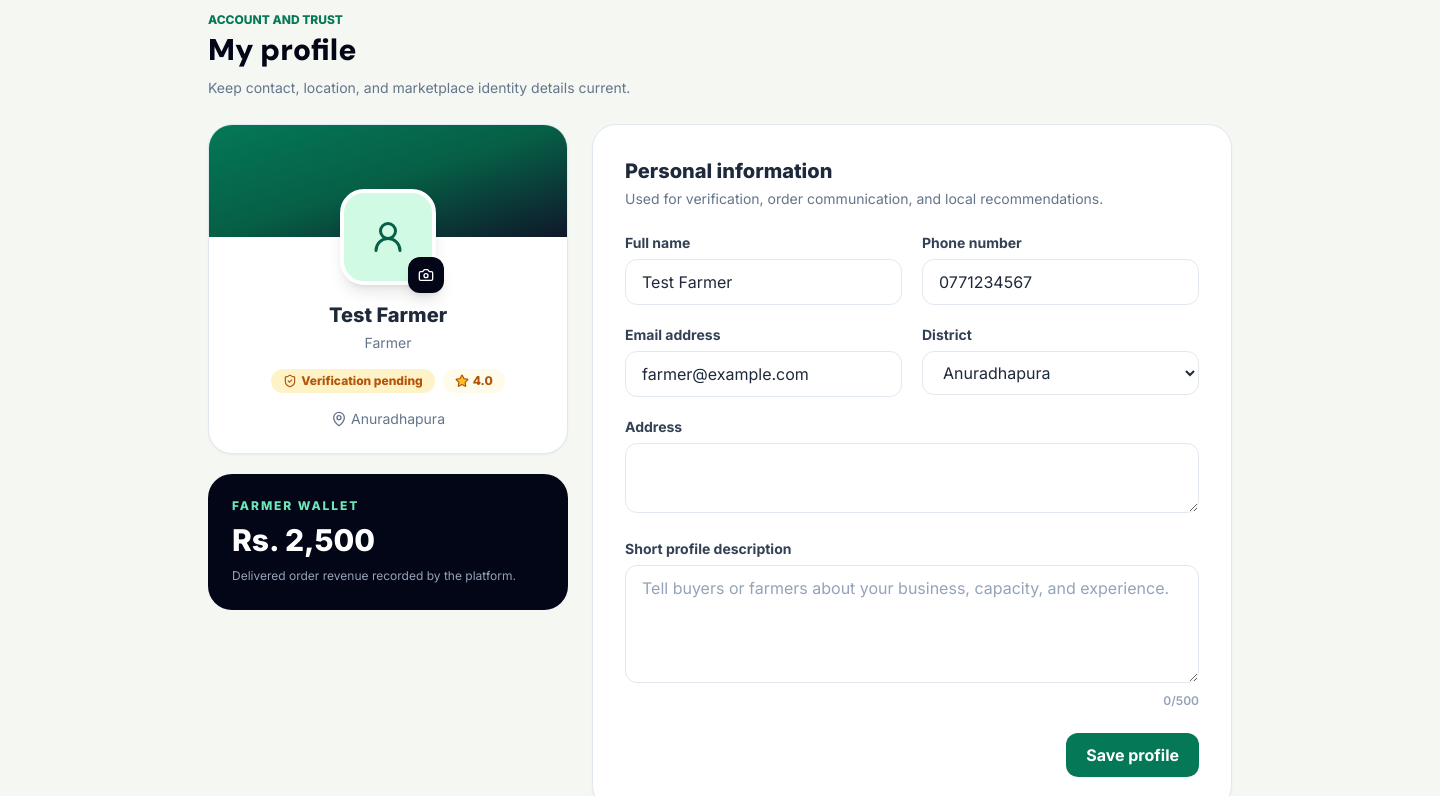
Test: ProfilePage › updates auth state with the saved profile response
Replace the text in the field labelled "Full name" with " Updated Farmer " at (764, 282), box [625,259,902,305]
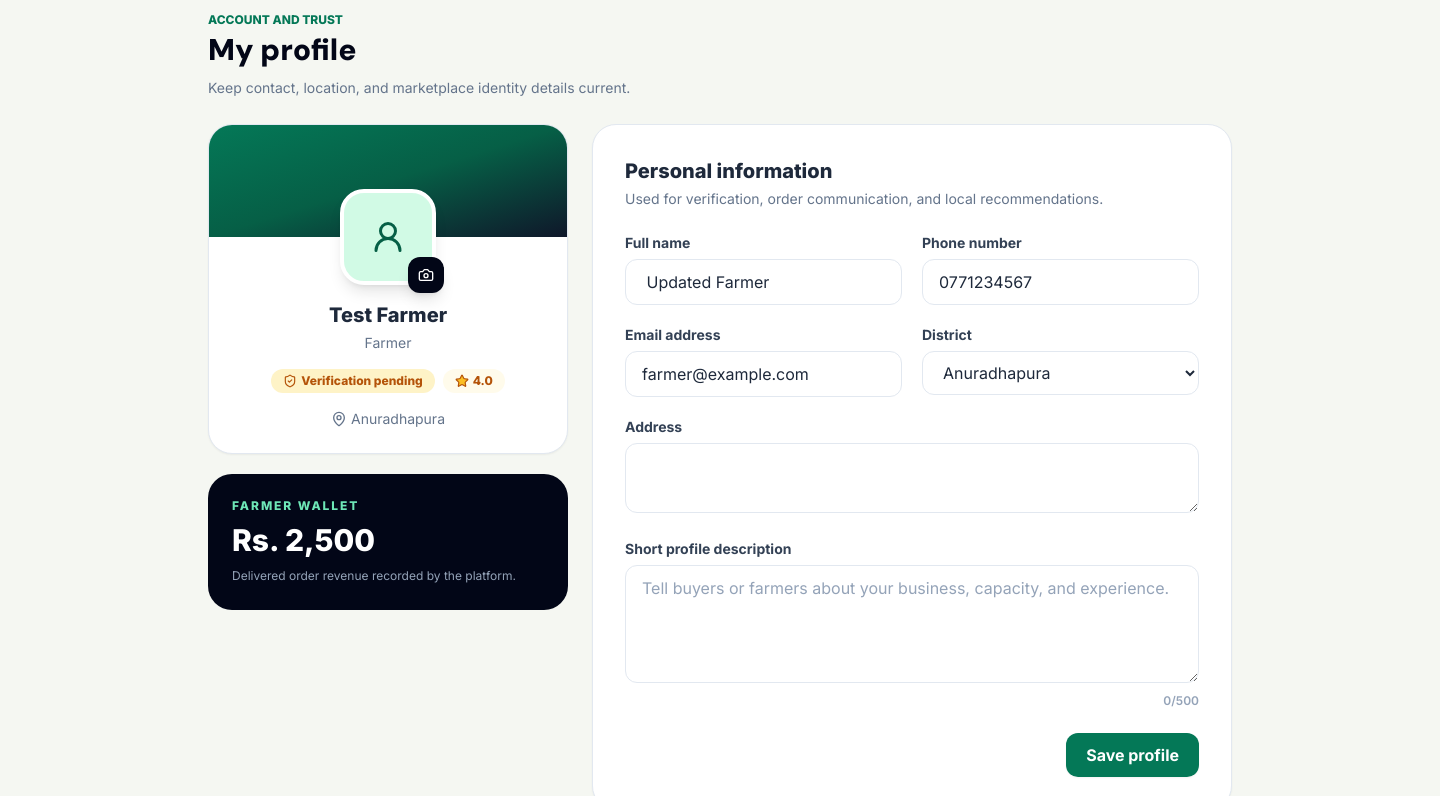
Replace the text in the field labelled "Email address" with " UPDATED@example.com " at (764, 374), box [625,351,902,397]
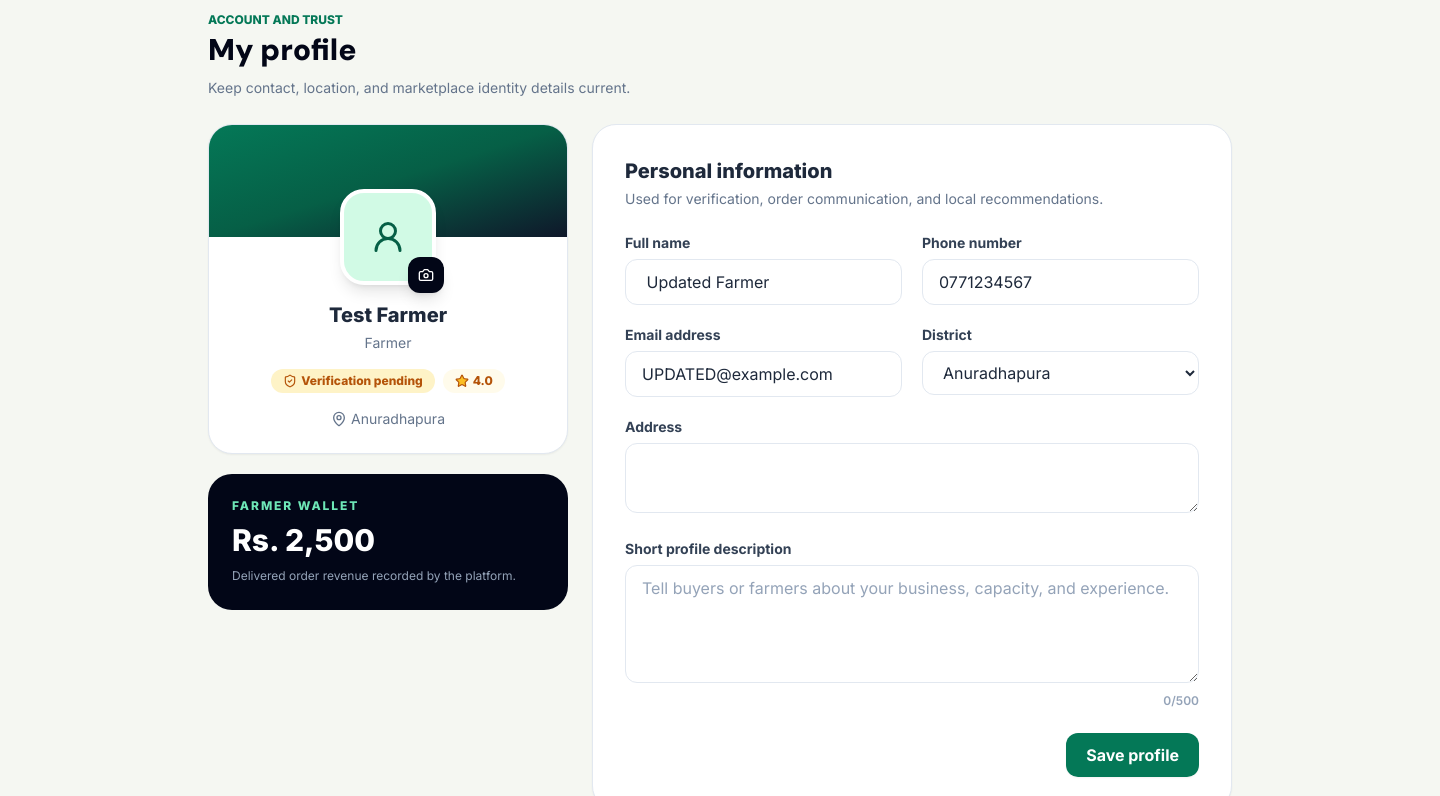
Type " Main Road " into the text box labelled "Address" at (912, 478), box [625,443,1199,513]
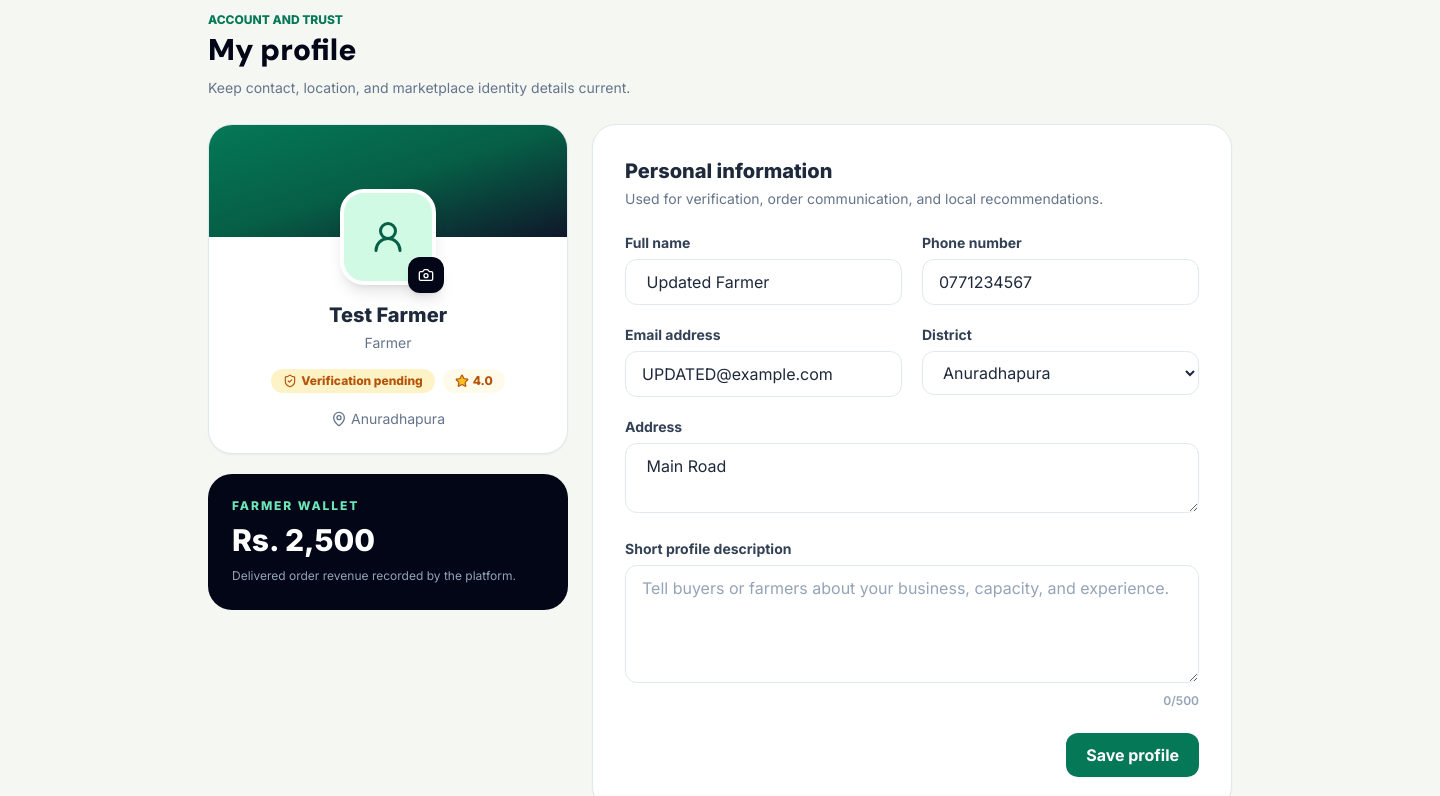
Replace the text in the text box labelled "Short profile description" with " Organic paddy supplier. " at (912, 624), box [625,565,1199,683]
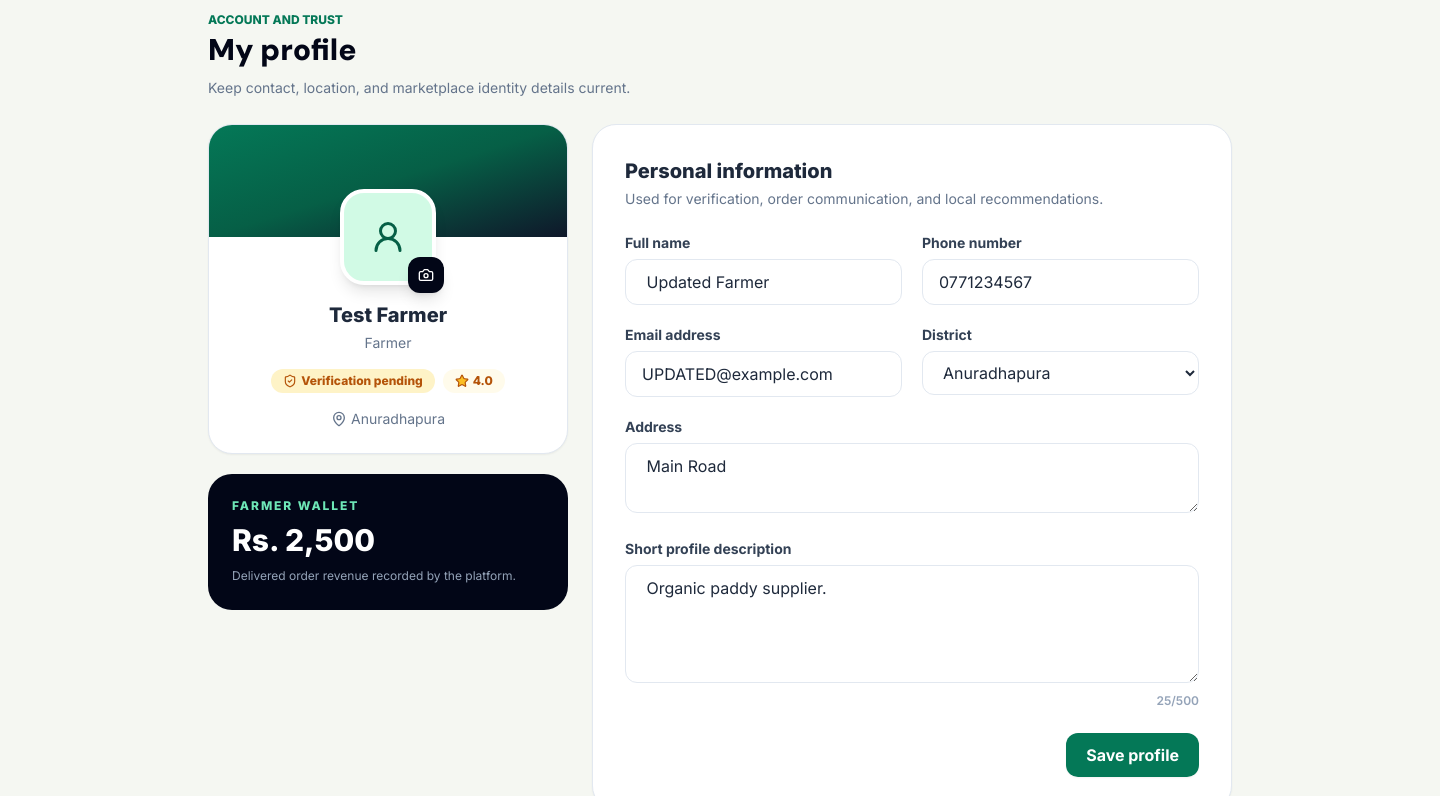
Click the button "Save profile" at (1133, 755), box [1066,733,1199,777]
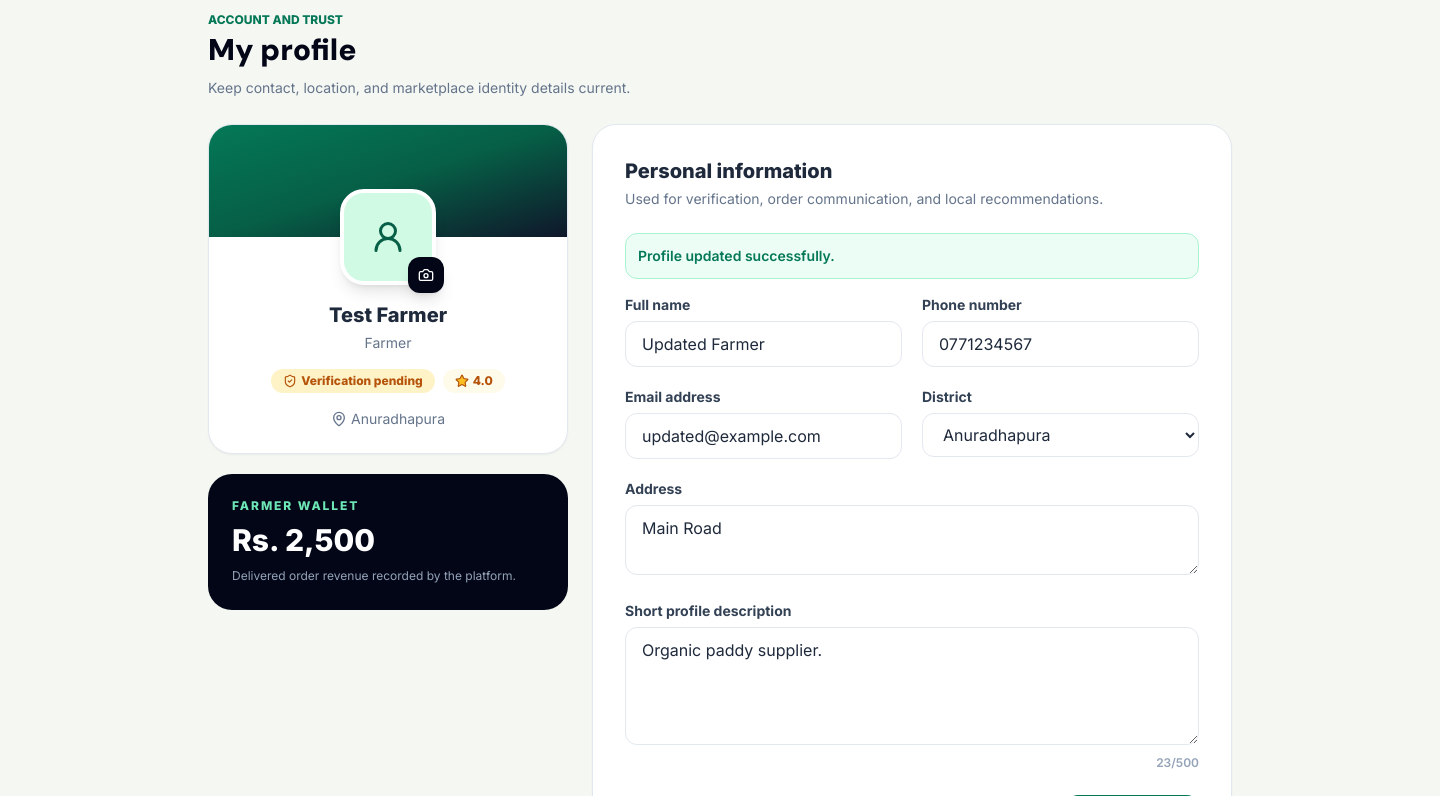
Expected: the text "Profile updated successfully." is shown, [625,233,1199,279]
